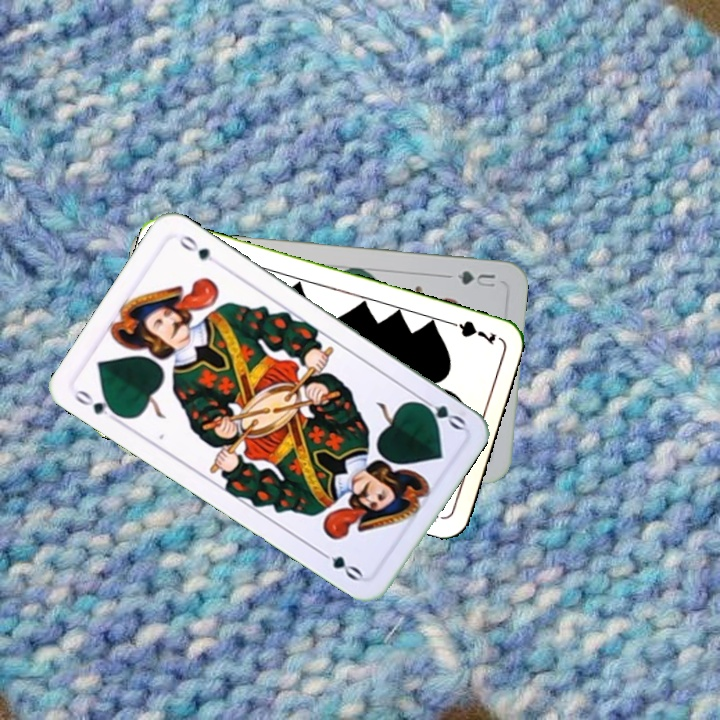G7: (441, 316, 499, 347)
GO: (411, 392, 468, 433), (70, 385, 125, 426)
GU: (453, 266, 498, 290)
